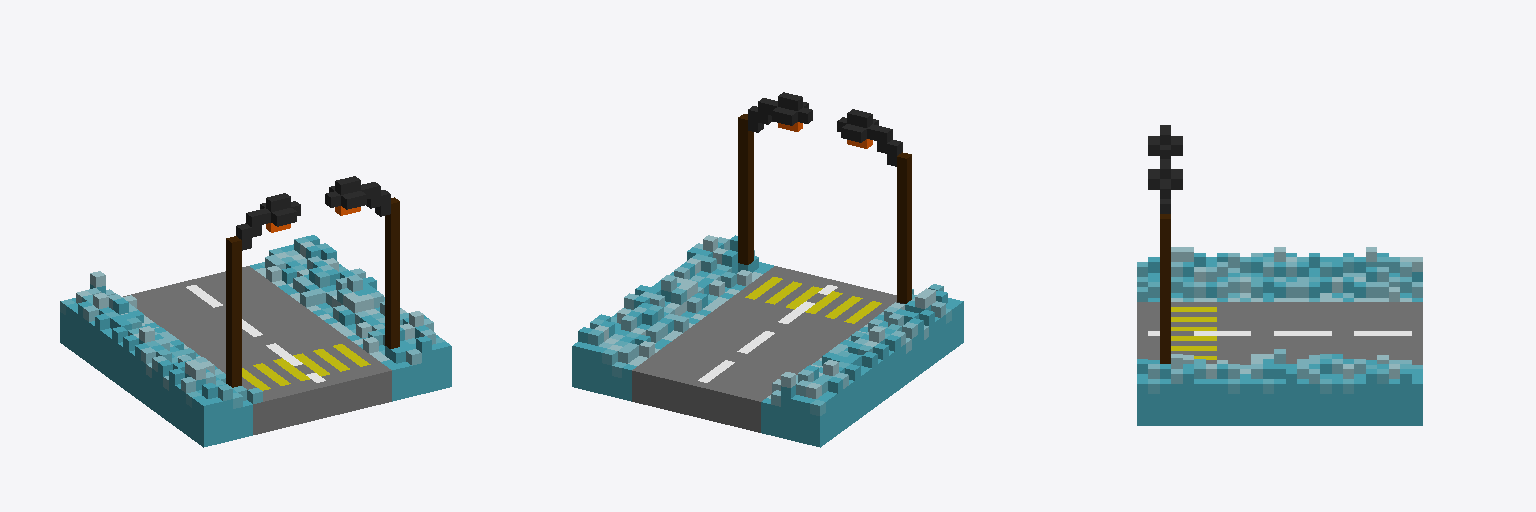
3 renders of one model, left to right at view 1: azimuth 30°, elevation 25°; view 2: azimuth 150°, elevation 25°; view 3: azimuth 270°, elevation 25°, orthographic.
Parts seen in each view (by area): view 1: Sklon2_02:Mesh; view 2: Sklon2_02:Mesh; view 3: Sklon2_02:Mesh.
Part boxes in pixels (bbox=[...]): Sklon2_02:Mesh: bbox=[60, 176, 451, 447]; Sklon2_02:Mesh: bbox=[572, 92, 963, 447]; Sklon2_02:Mesh: bbox=[1137, 125, 1422, 425].
Size of the model in its own units: 4 by 3.36 by 4.
Materials: 1 (1 with a texture image).